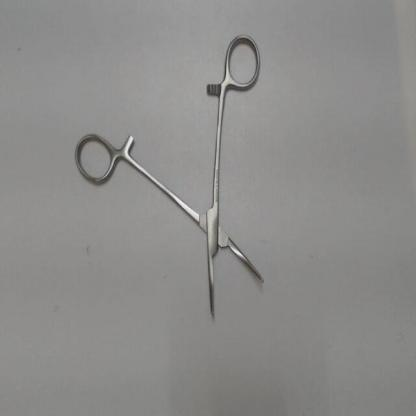Crile Artery Forceps: (68, 28, 269, 326)
